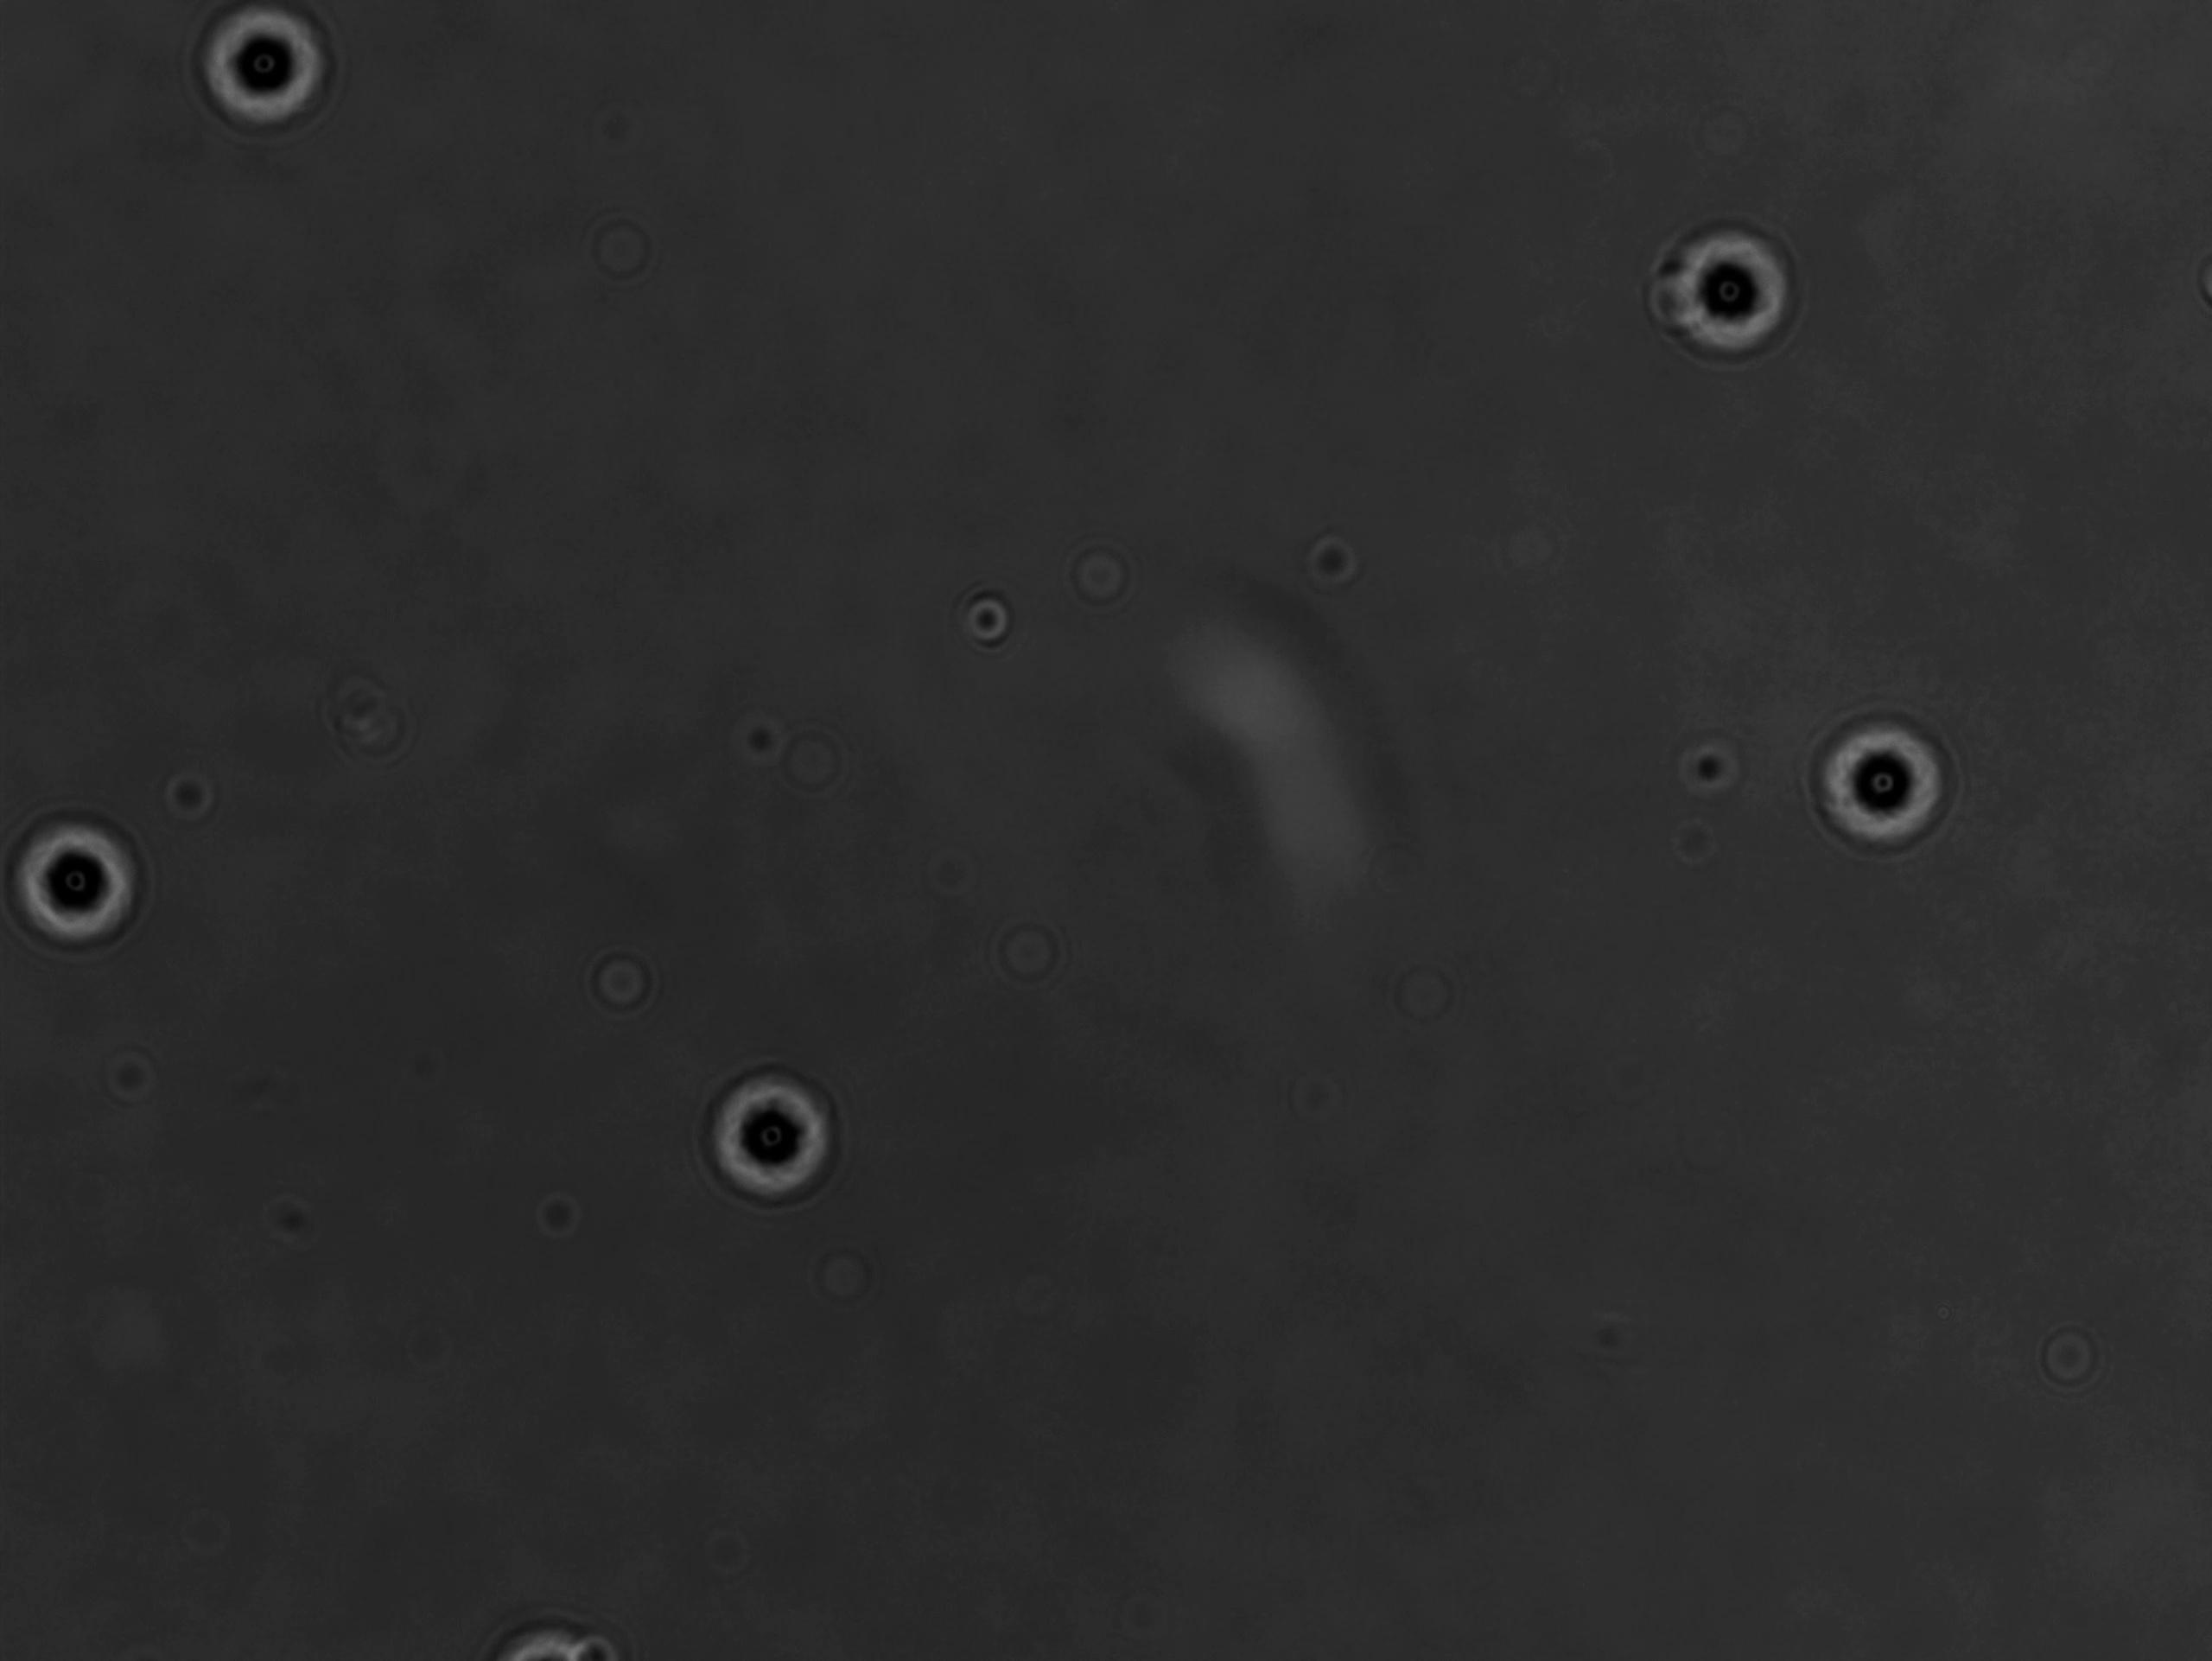depth:-20: (684, 1036, 865, 1218), (1793, 694, 1975, 876), (1638, 187, 1813, 372)
